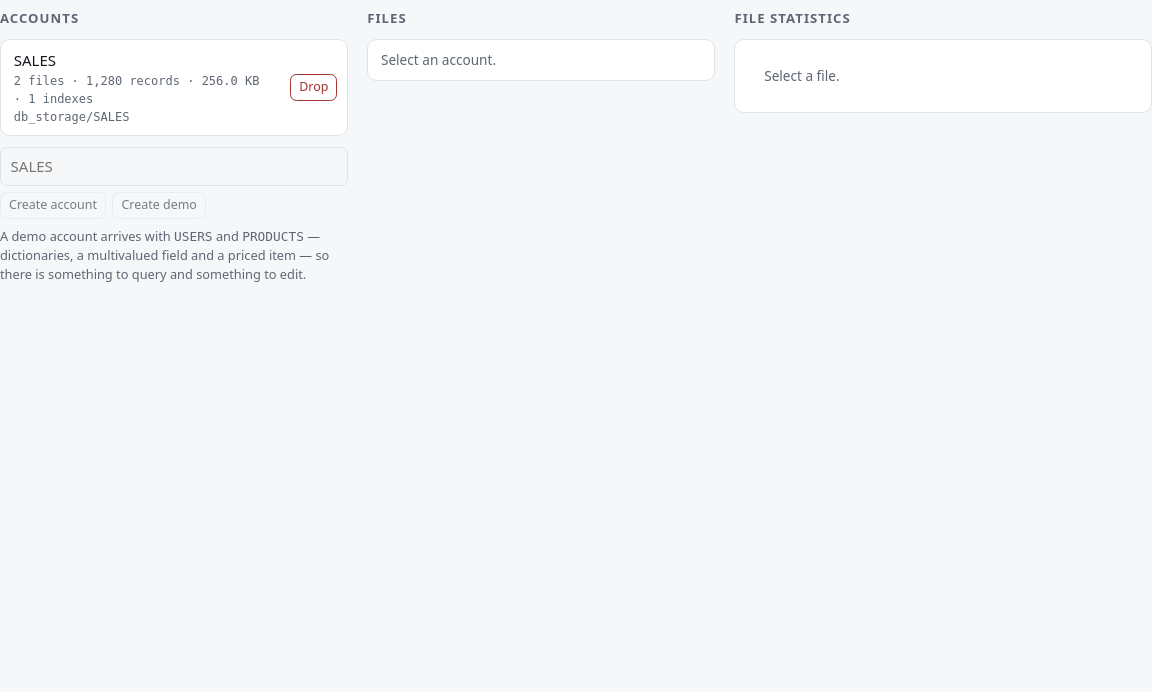
Scenario: the accounts view › reports a queue’s depth, in-flight count, age and dead letters
Click the button with class "select" at (142, 88), box x1=1 y1=40 x2=284 y2=135
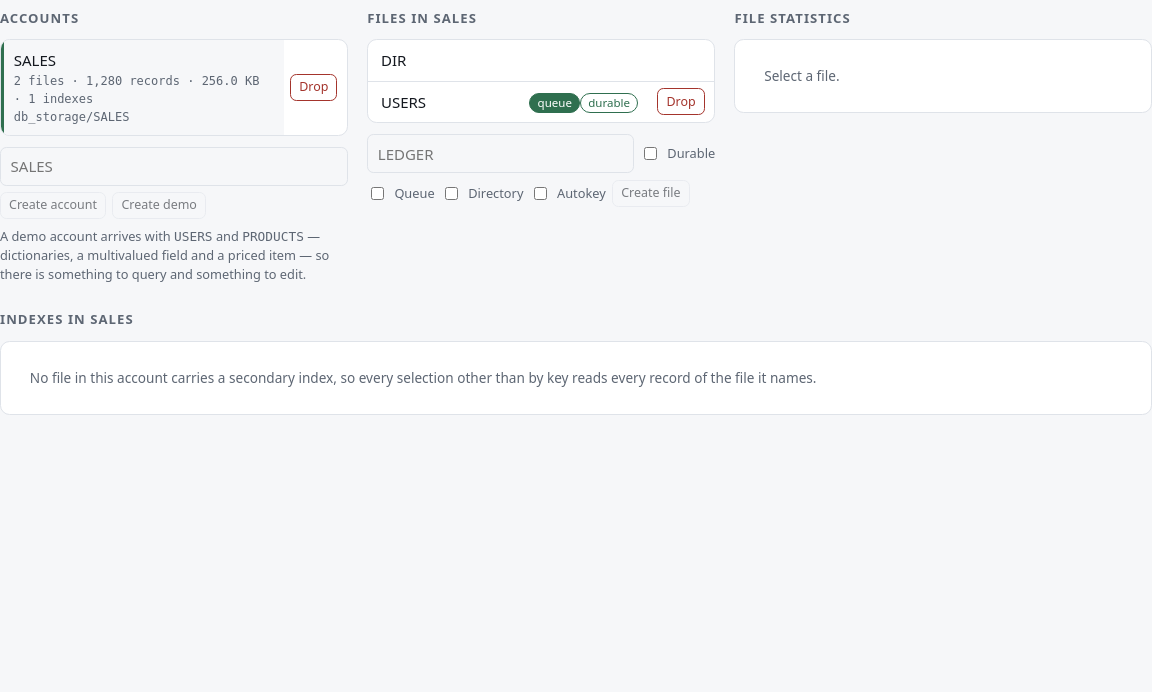
Click the button with class "select" showing "USERS queue durable" at (404, 102), box x1=368 y1=82 x2=651 y2=122
(page scrolled)
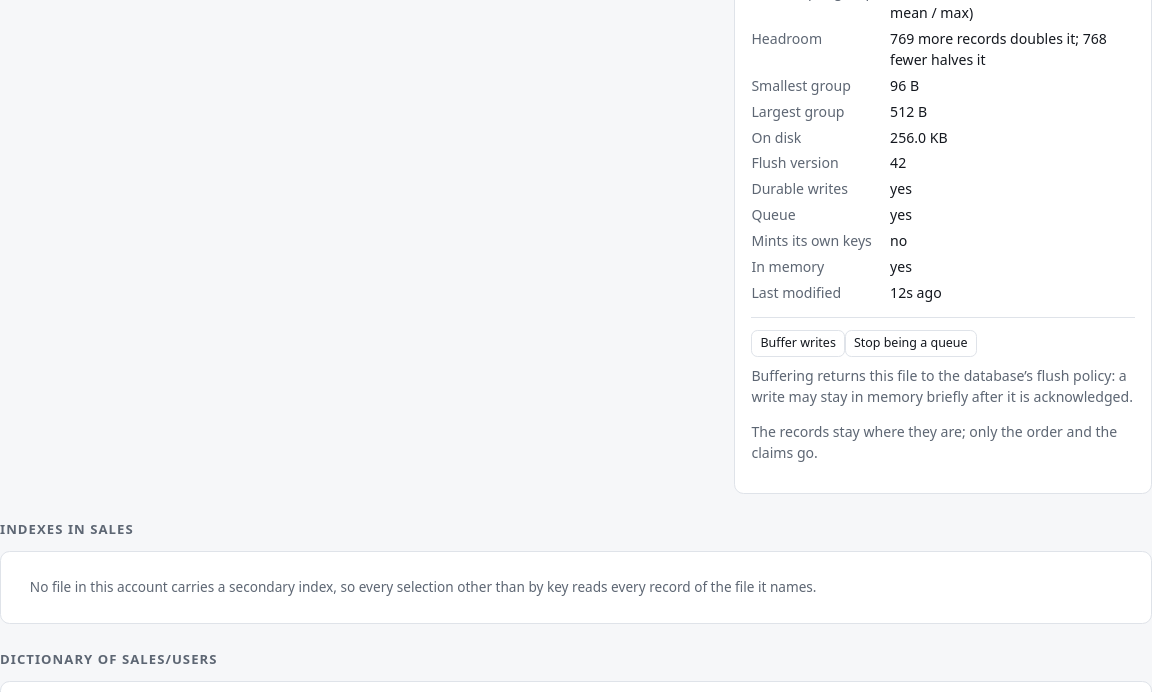
Check: the text "Queue" is shown, box x1=751 y1=205 x2=796 y2=224
Check: the button "Stop being a queue" is shown, box x1=845 y1=330 x2=977 y2=357
